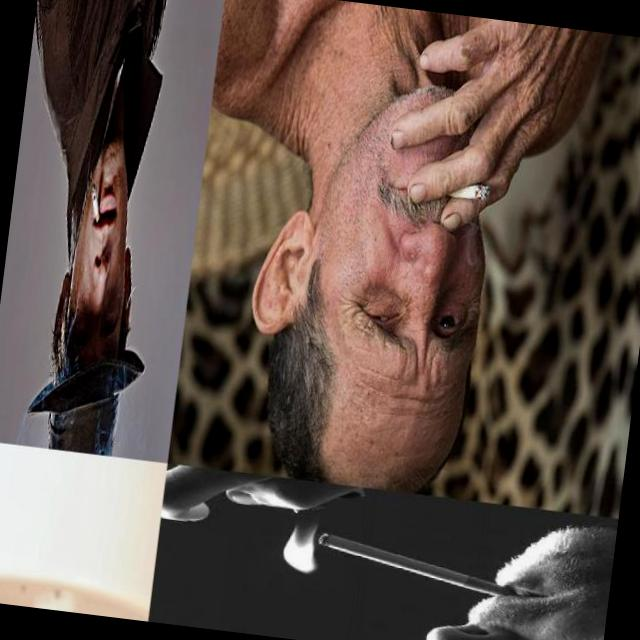smoke: (385, 9, 595, 247), (312, 530, 531, 602), (84, 176, 107, 236)
